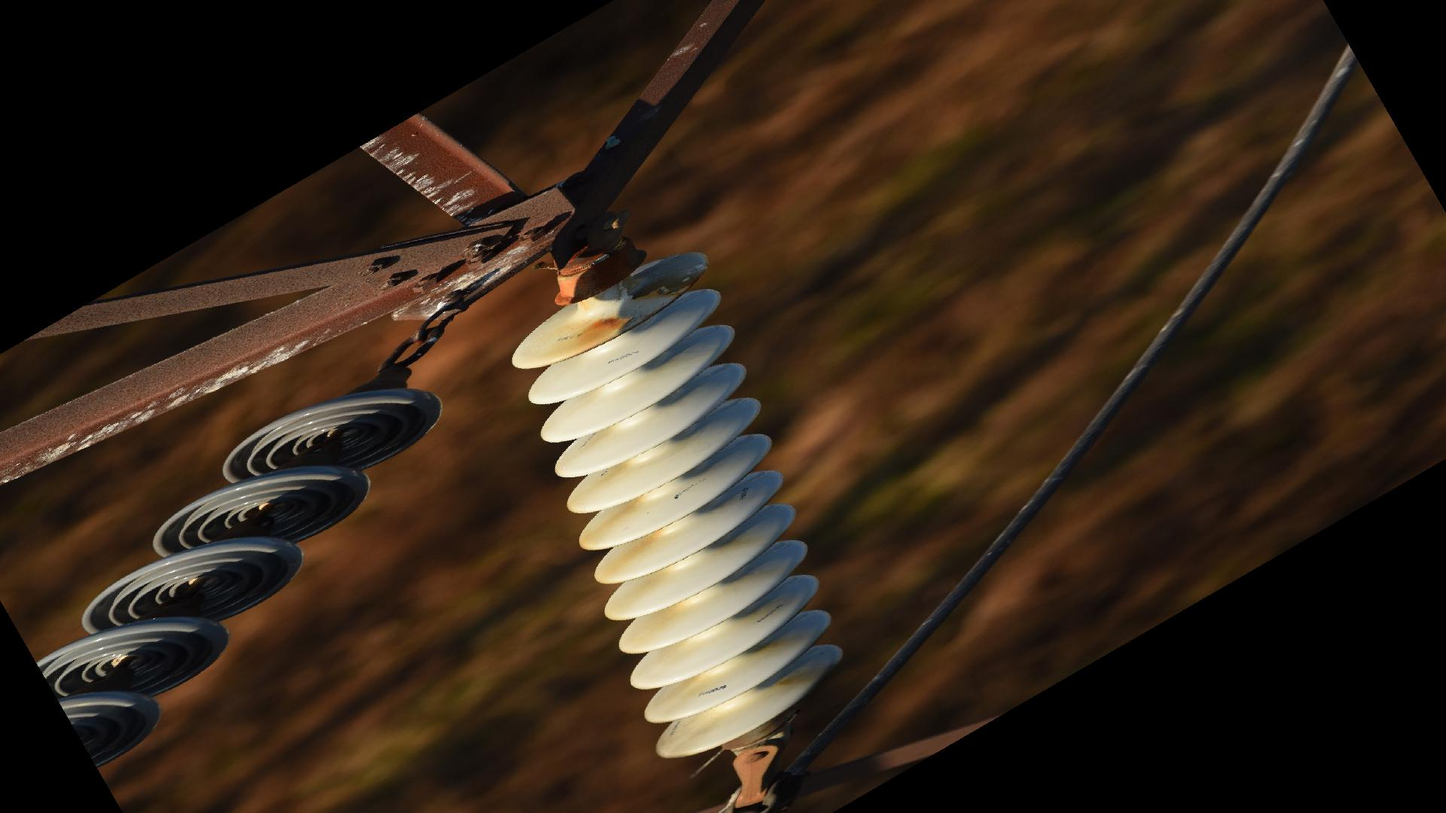insulator: (505, 242, 850, 768), (30, 382, 451, 770)
insulator_flashover: (621, 243, 710, 306)
